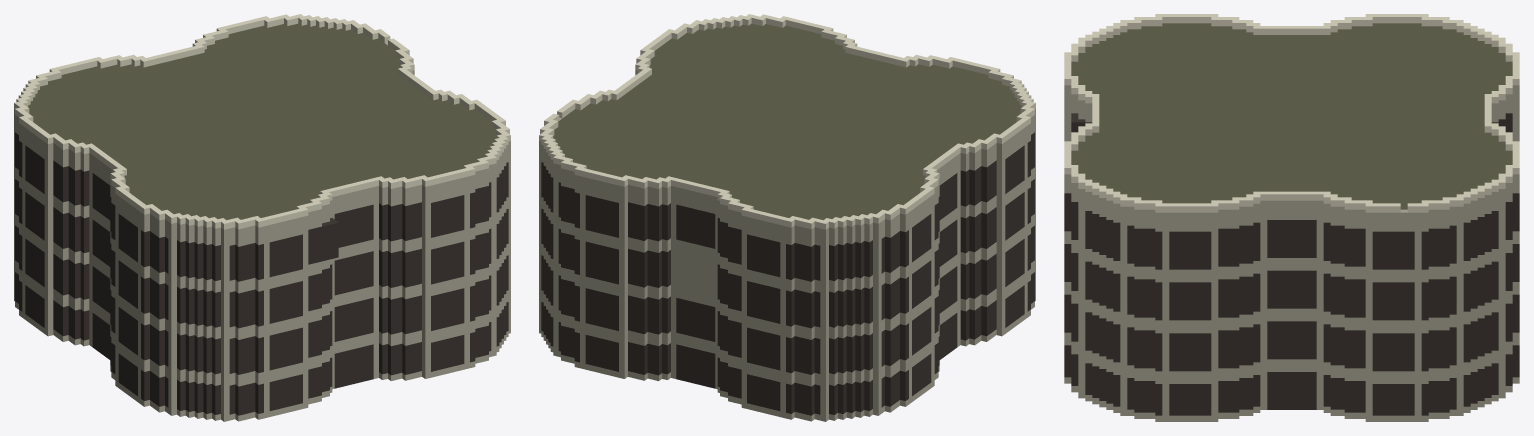
The model's file is SkyScraper3BaseFBX.fbx.
3 renders of one model, left to right at view 1: azimuth 30°, elevation 25°; view 2: azimuth 150°, elevation 25°; view 3: azimuth 270°, elevation 25°, orthographic. The views are drawn at different scales.
Visible parts, largest first — view 1: Untitled; view 2: Untitled; view 3: Untitled.
Part boxes in pixels (bbox=[...]): Untitled: bbox=[14, 14, 510, 421]; Untitled: bbox=[539, 14, 1035, 421]; Untitled: bbox=[1064, 14, 1519, 421].
Bounding box in the file's own units: 650 × 340 × 650.
1 material, 1 textured.
